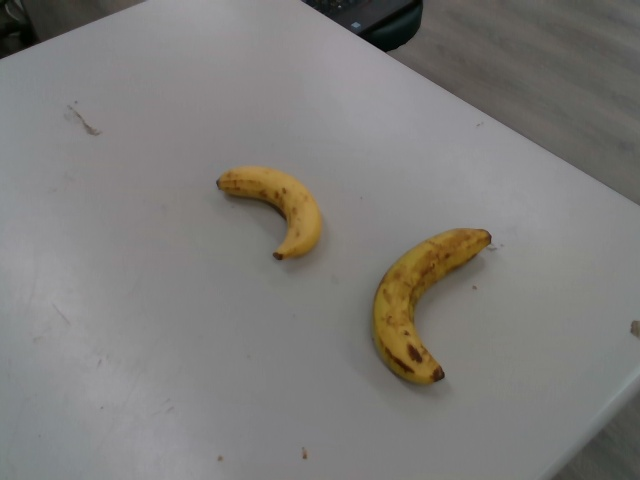banana: (367, 228, 494, 389), (217, 162, 325, 264)
